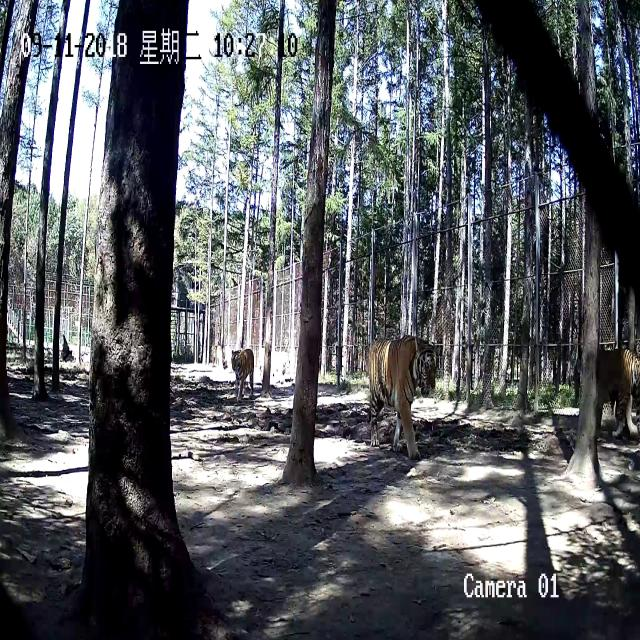Tiger: (359, 330, 438, 478), (591, 342, 640, 445), (229, 342, 263, 406)
